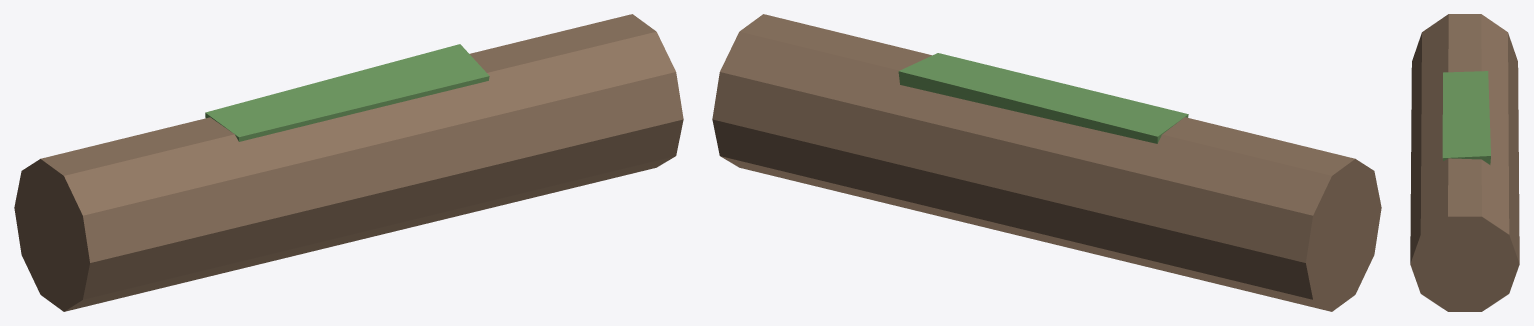
The model's file is log.glb.
3 views of the same model, side by side, from view 1: azimuth 30°, elevation 25°; view 2: azimuth 150°, elevation 25°; view 3: azimuth 270°, elevation 25° (orthographic). The views are drawn at different scales.
Visible parts, largest first — view 1: Cylinder, Cube; view 2: Cylinder, Cube; view 3: Cylinder, Cube.
Boxes of the visible parts, bbox=[...] form: Cylinder: bbox=[14, 14, 683, 311]; Cube: bbox=[205, 44, 489, 141]; Cylinder: bbox=[712, 14, 1381, 311]; Cube: bbox=[898, 53, 1188, 143]; Cylinder: bbox=[1410, 14, 1519, 311]; Cube: bbox=[1442, 71, 1490, 164].
Bounding box in the file's own units: 2.6 × 0.5944 × 0.5935.
